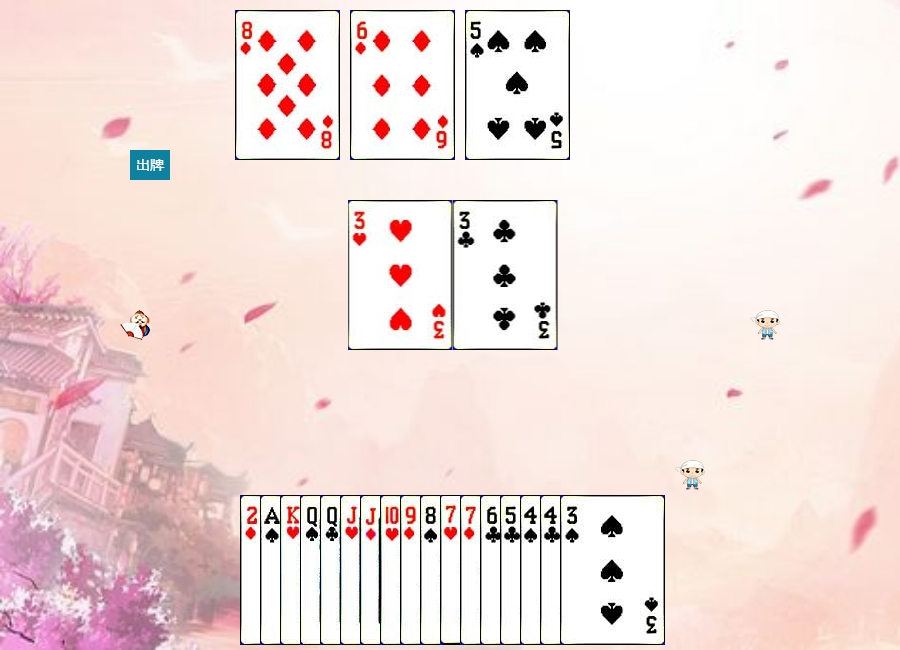10~3: (380, 495, 485, 645)
11~1: (360, 495, 465, 645)
11~3: (340, 495, 445, 645)
12~2: (320, 495, 425, 645)
12~4: (300, 495, 405, 645)
13~3: (280, 495, 385, 645)
14~4: (260, 495, 365, 645)
15~1: (240, 495, 345, 645)
3~2: (453, 200, 558, 350)
3~3: (348, 200, 453, 350)
3~4: (560, 495, 665, 645)
4~2: (540, 495, 645, 645)
4~4: (520, 495, 625, 645)
5~2: (500, 495, 605, 645)
5~4: (465, 10, 570, 160)
6~1: (350, 10, 455, 160)
6~2: (480, 495, 585, 645)
7~1: (460, 495, 565, 645)
7~3: (440, 495, 545, 645)
8~1: (235, 10, 340, 160)
8~4: (420, 495, 525, 645)
9~1: (400, 495, 505, 645)
